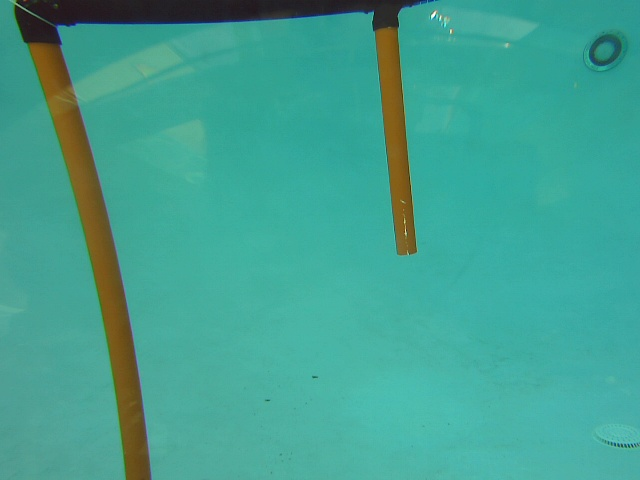Gate: (18, 25, 157, 480), (367, 6, 423, 262)
